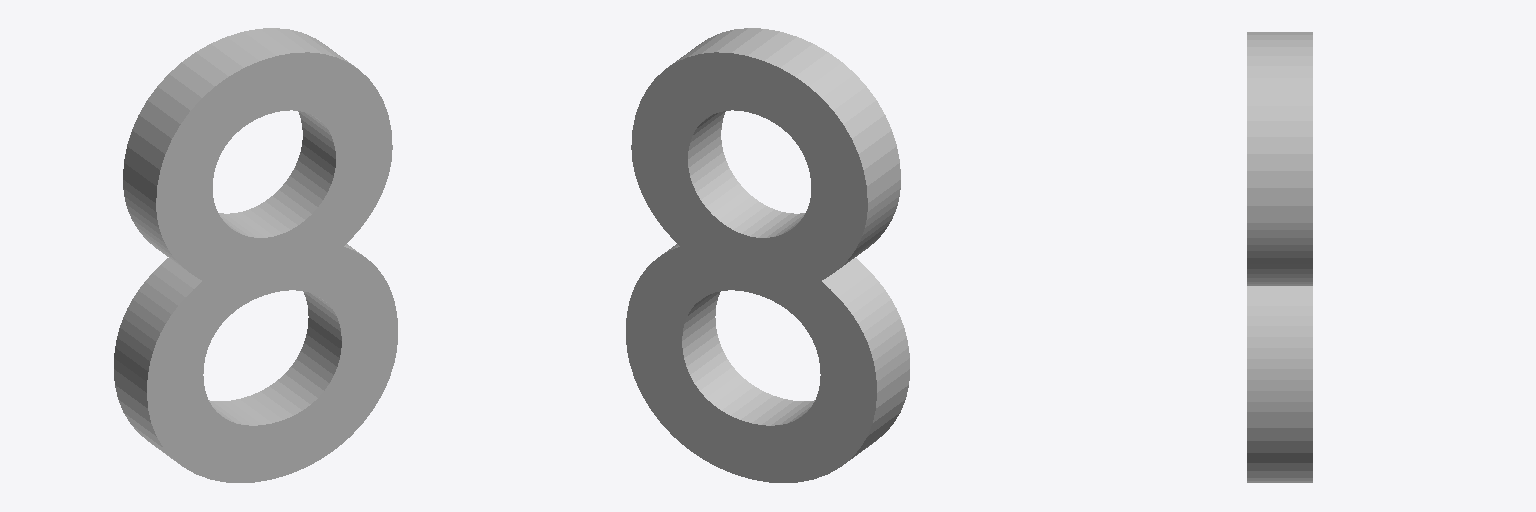
The picture shows the model from 3 angles: view 1: azimuth 30°, elevation 25°; view 2: azimuth 150°, elevation 25°; view 3: azimuth 270°, elevation 25°; orthographic projection.
Visible parts, largest first — view 1: Text.007_CUText.007; view 2: Text.007_CUText.007; view 3: Text.007_CUText.007.
Part boxes in pixels (x1,y1,x2,y2): Text.007_CUText.007: (114, 28, 397, 482); Text.007_CUText.007: (626, 28, 909, 482); Text.007_CUText.007: (1247, 32, 1312, 482).
Size of the model in its own units: 0.436 by 0.7 by 0.1.